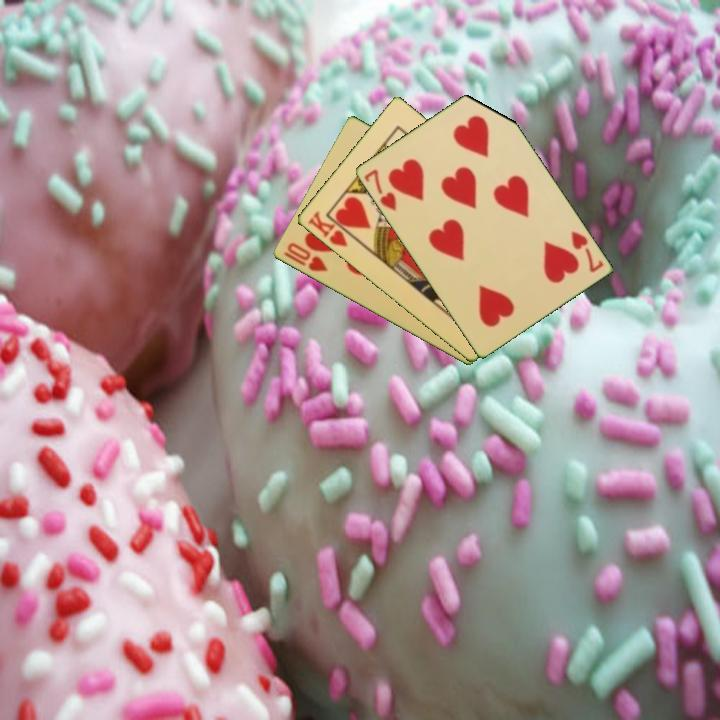10h: (280, 239, 330, 275)
7h: (360, 165, 399, 214), (567, 227, 606, 276)
Kh: (304, 208, 358, 250)
